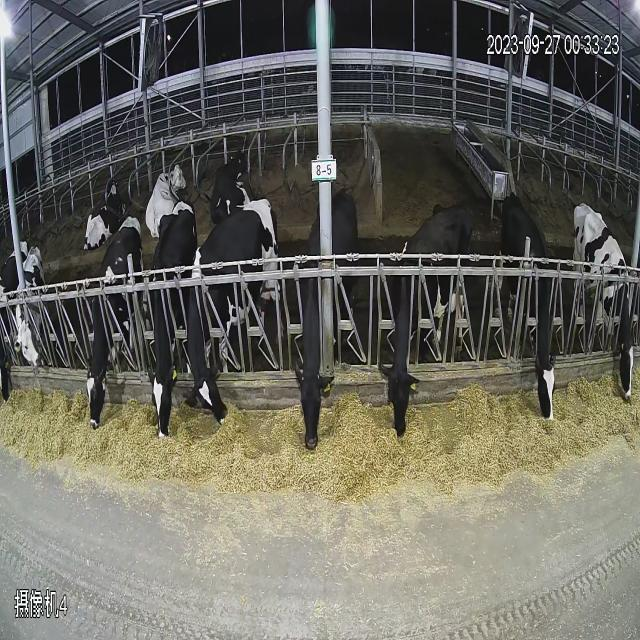feeding: (386, 178, 483, 454), (289, 157, 372, 470), (495, 174, 567, 446), (571, 177, 640, 426), (146, 193, 196, 464), (88, 212, 144, 452), (1, 206, 16, 430)
lying down: (201, 130, 262, 218), (138, 144, 197, 227), (78, 164, 134, 246)
